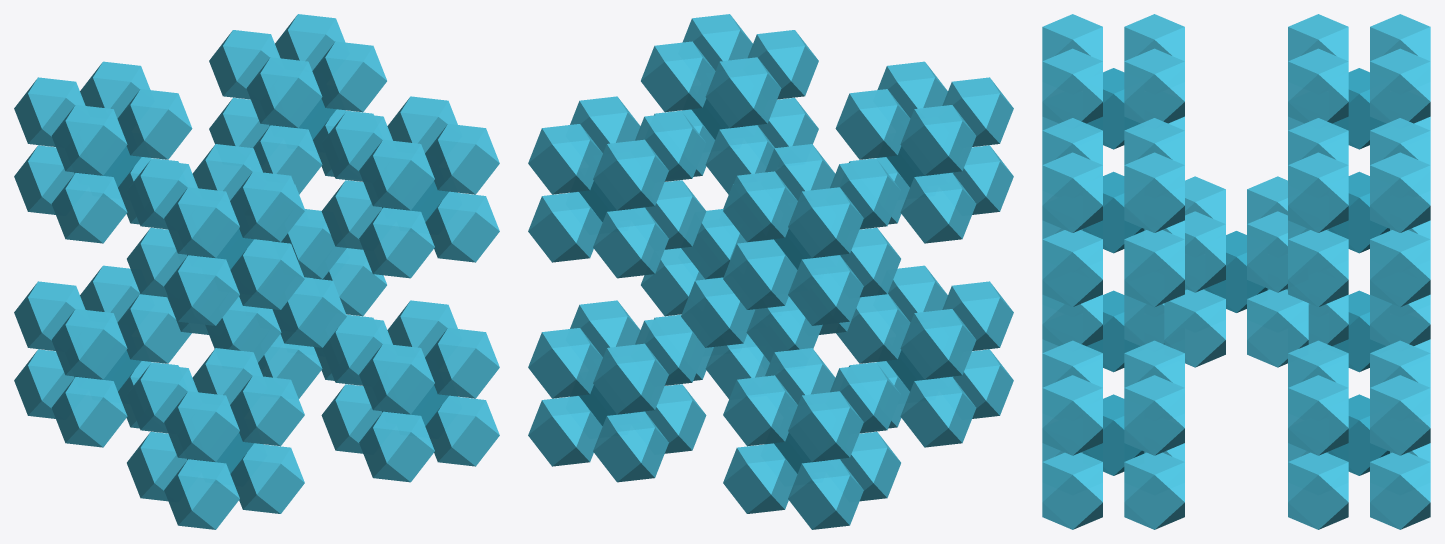
Rendered from fractalcuboctahedron2.glb.
3 renders of one model, left to right at view 1: azimuth 30°, elevation 25°; view 2: azimuth 150°, elevation 25°; view 3: azimuth 270°, elevation 25°, orthographic. The views are drawn at different scales.
Bounding box in the file's own units: 6.2 × 6.2 × 6.2.
